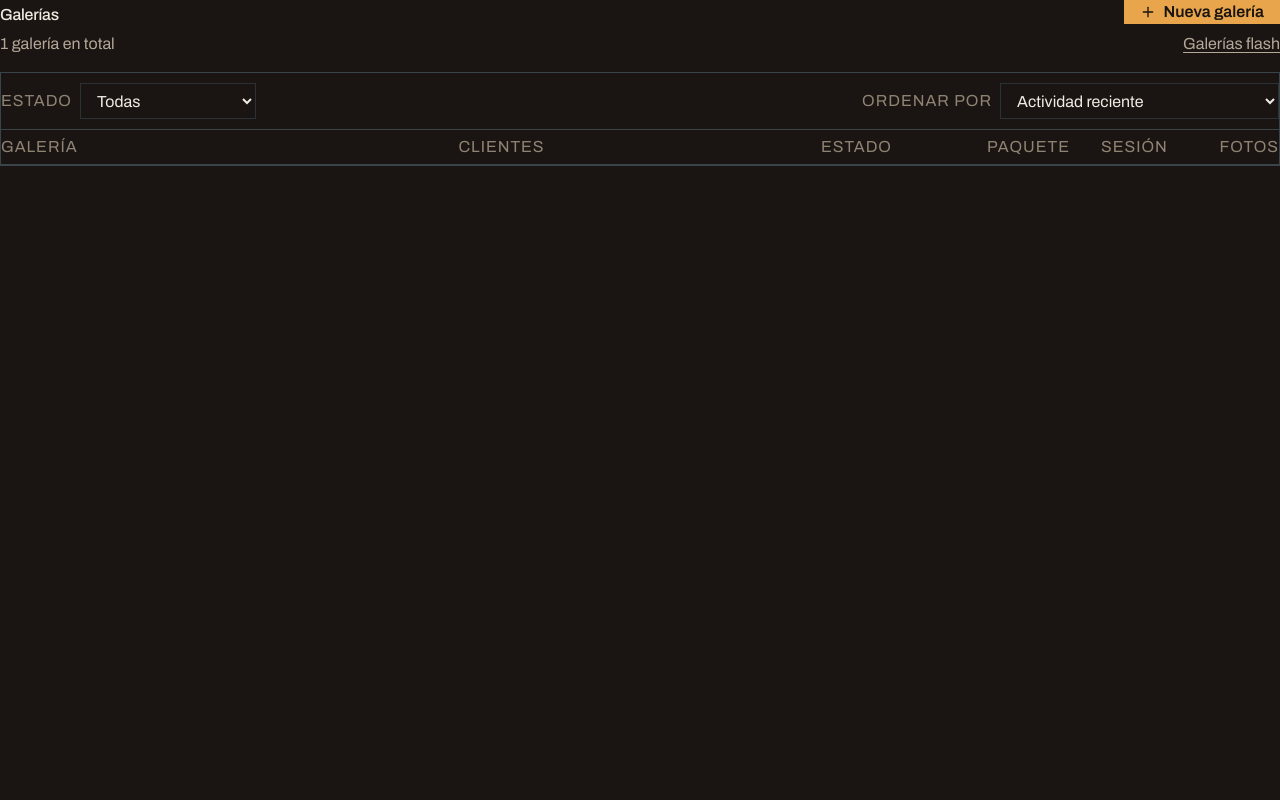
Test: GalleriesPage chrome › still renders the creation form, with guidance, when there are no clients yet
The width and height of the screenshot is (1280, 800).
Click the button "Nueva galería": (1202, 12) [1124,0,1279,24]
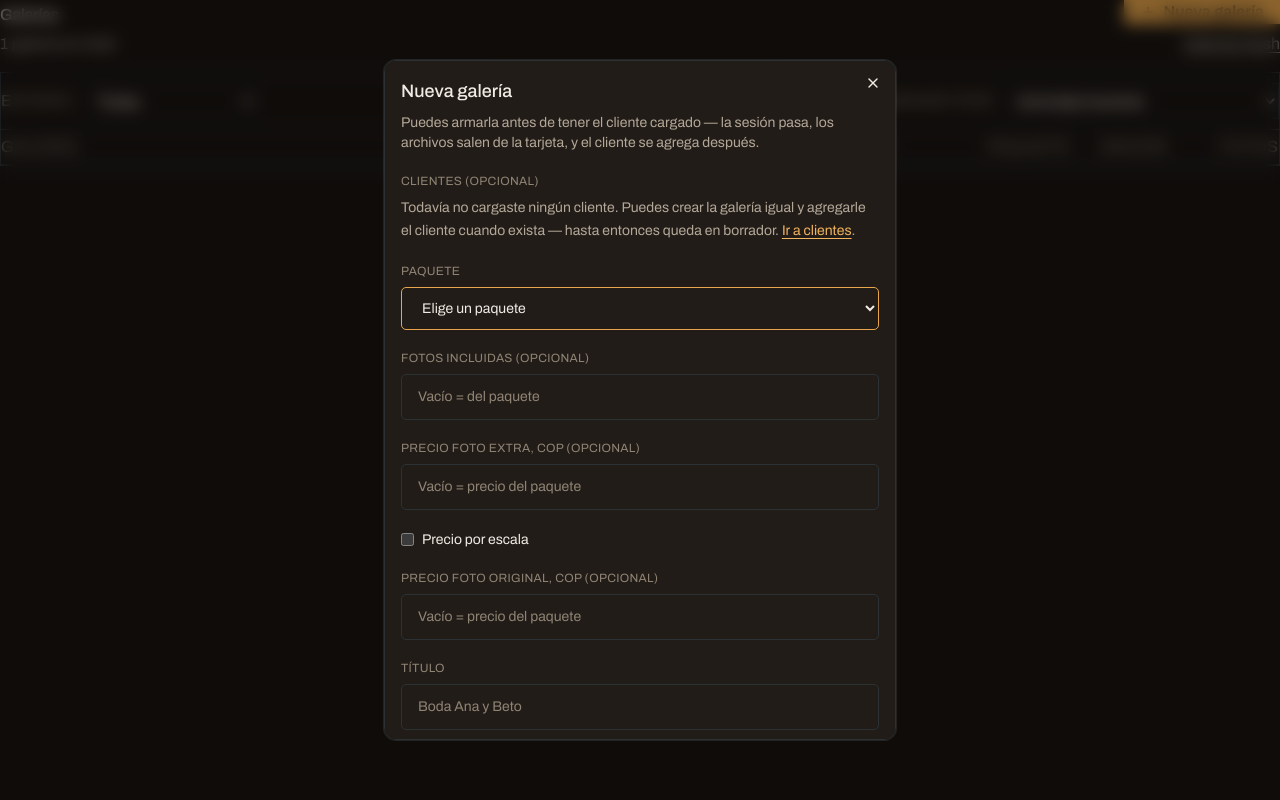
Expected: the text "Todavía no cargaste ningún cliente" is shown, [401,200,866,238]
Expected: the link "Ir a clientes" is shown, [782,223,852,238]
